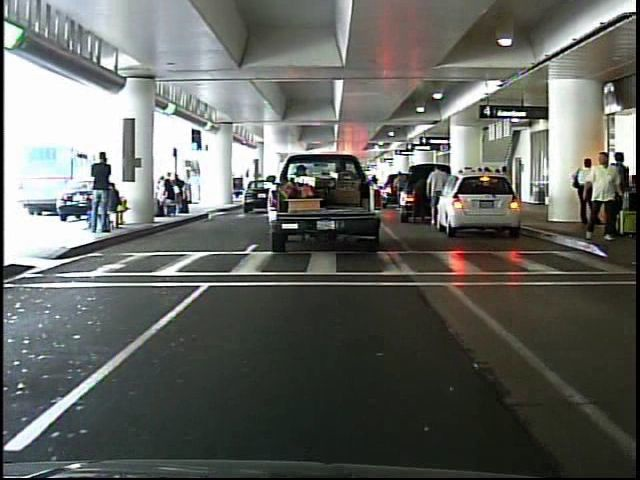person: (579, 144, 620, 246), (91, 146, 118, 234), (591, 152, 616, 241), (422, 161, 453, 232), (188, 166, 203, 209)
